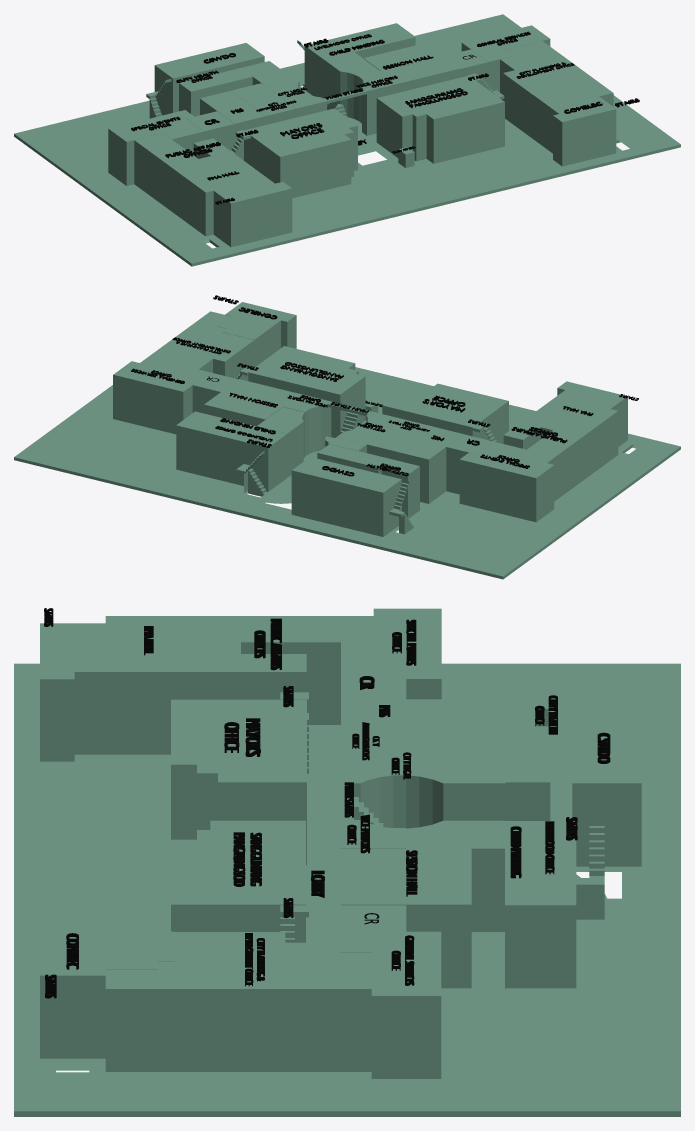
Rendered from OCH 2FWL.glb.
3 views of the same model, one above another, from view 1: azimuth 30°, elevation 25°; view 2: azimuth 150°, elevation 25°; view 3: azimuth 270°, elevation 25° (orthographic). The views are drawn at different scales.
Parts seen in each view (by area): view 1: 2F, SP; view 2: 2F, SP; view 3: 2F, SP, MO, PAO, CPDO.
Boxes of the visible parts, left/top/right/bottom form: 2F: left=14, top=14, right=680, bottom=266; SP: left=405, top=88, right=467, bottom=108; 2F: left=14, top=302, right=680, bottom=579; SP: left=280, top=362, right=343, bottom=381; 2F: left=14, top=608, right=680, bottom=1116; SP: left=233, top=832, right=261, bottom=886; MO: left=224, top=718, right=260, bottom=756; PAO: left=254, top=618, right=281, bottom=670; CPDO: left=245, top=933, right=264, bottom=986.
Size of what is drawn, in the model's own units: 50.04 by 4.88 by 31.49.
